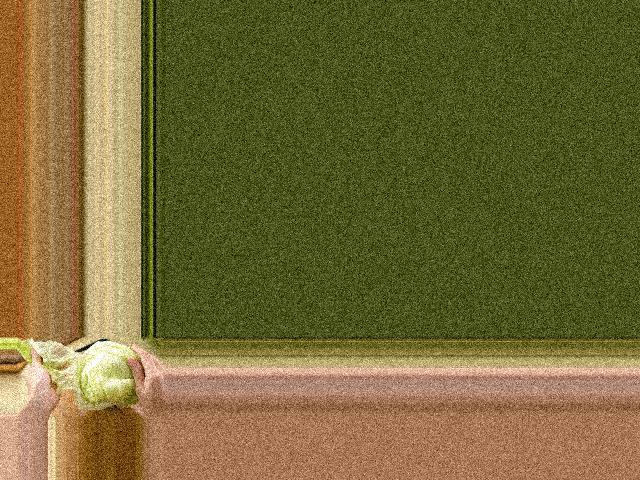lettuce: (58, 338, 144, 414)
